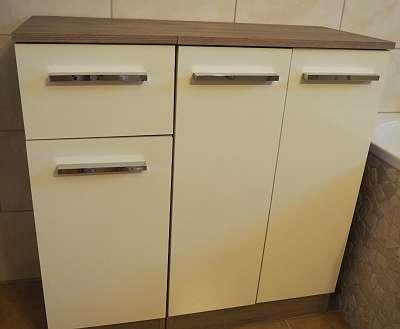cabinet_door: (277, 50, 380, 306), (176, 47, 272, 307), (37, 140, 168, 326), (20, 46, 173, 137)
handle: (45, 67, 150, 89), (53, 158, 152, 178), (187, 70, 280, 88), (298, 68, 382, 86)
